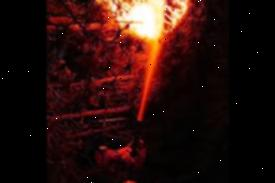fire: (73, 0, 201, 37)
